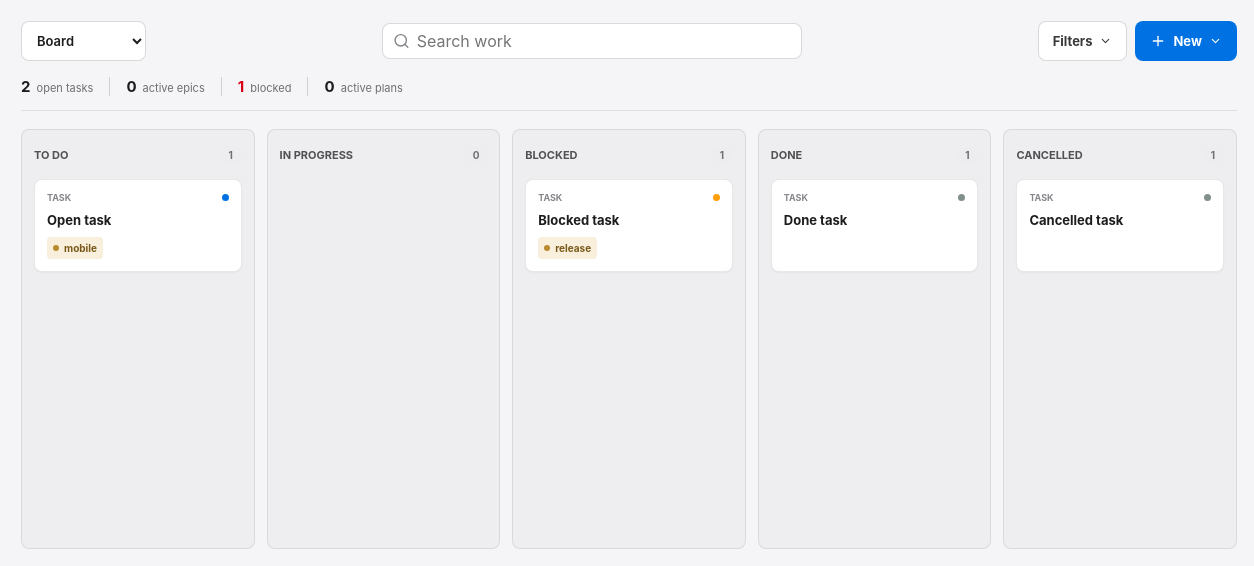
components › opens Board by default and keeps only the useful work views
Expected: the text "Open task" is shown, 47,212 -> 111,228
Expected: the text "Done task" is shown, 784,212 -> 847,228
Select "List" in the dropdown named "Work view". click: (84, 41)
box: 21,21 -> 146,61
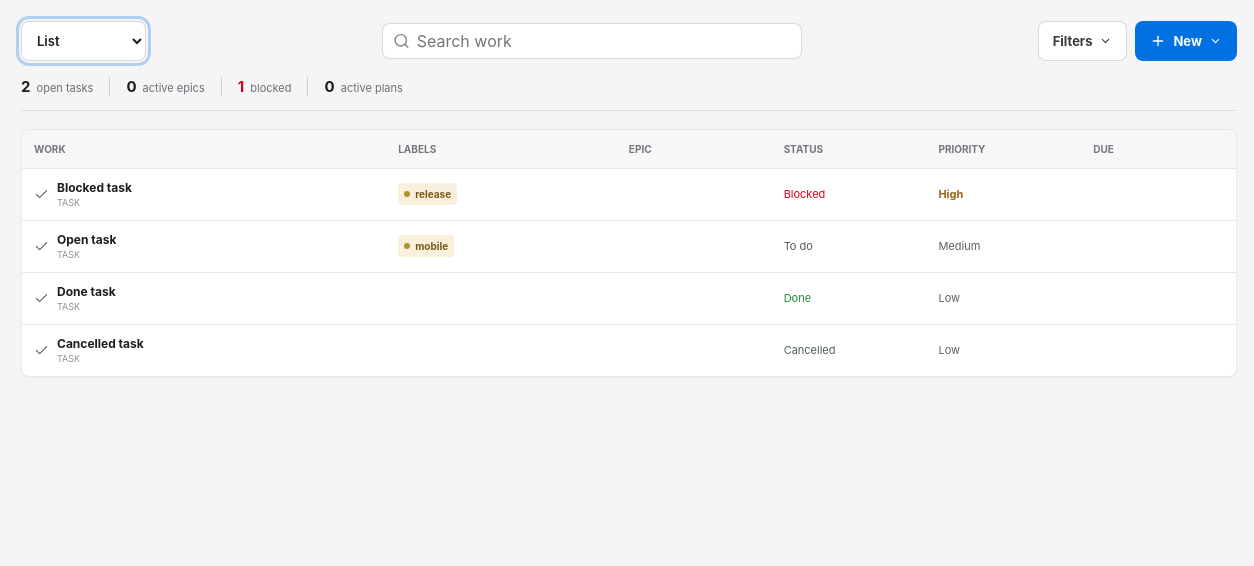
Expected: the text "Done task" is shown, 57,284 -> 116,299
Select "Epics" in the dropdown named "Work view". click: (84, 41)
box: 21,21 -> 146,61
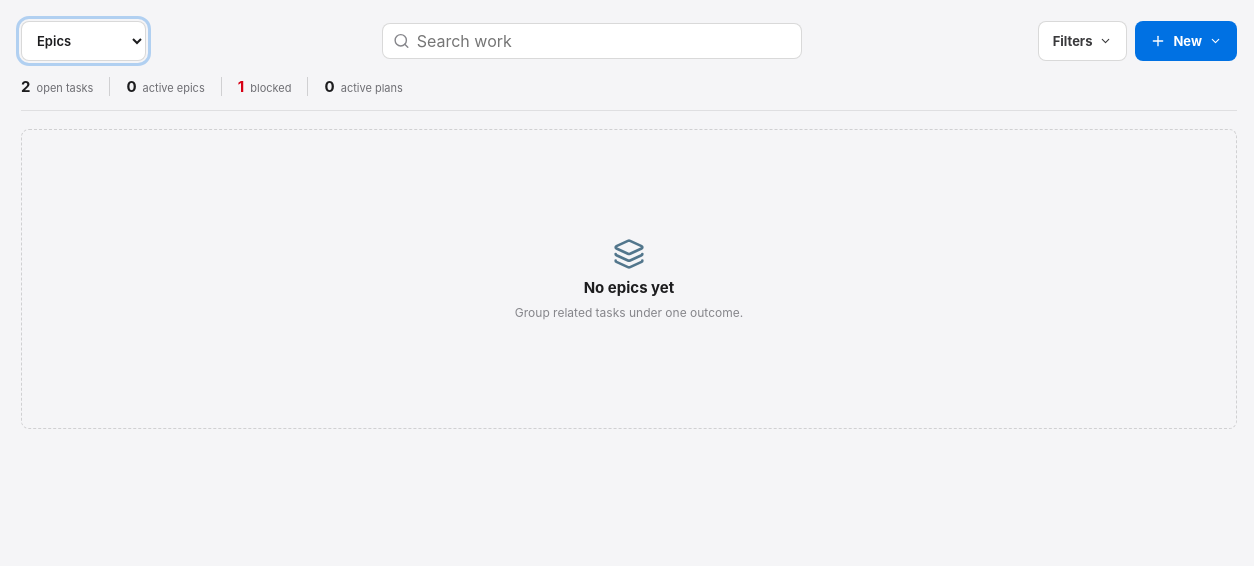
Expected: the heading "No epics yet" is shown, 584,278 -> 674,297
